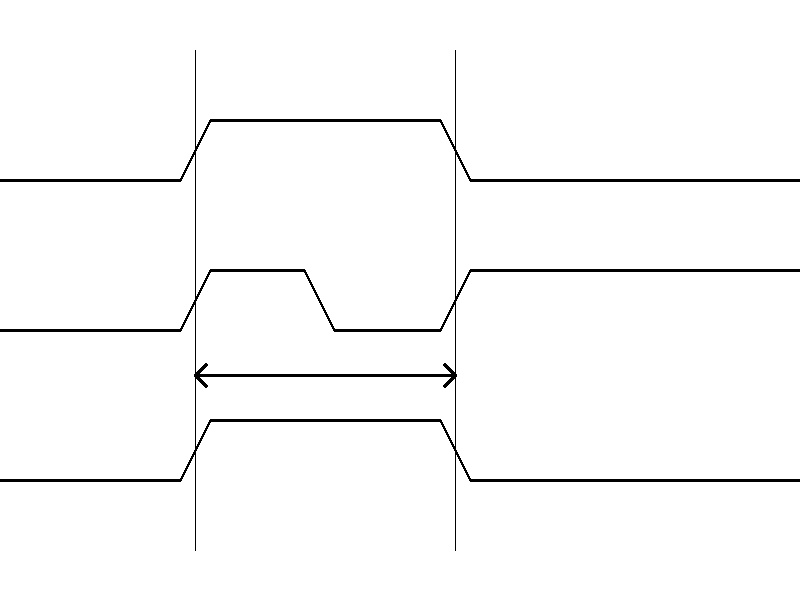double_arrow: (195, 360, 455, 390)
